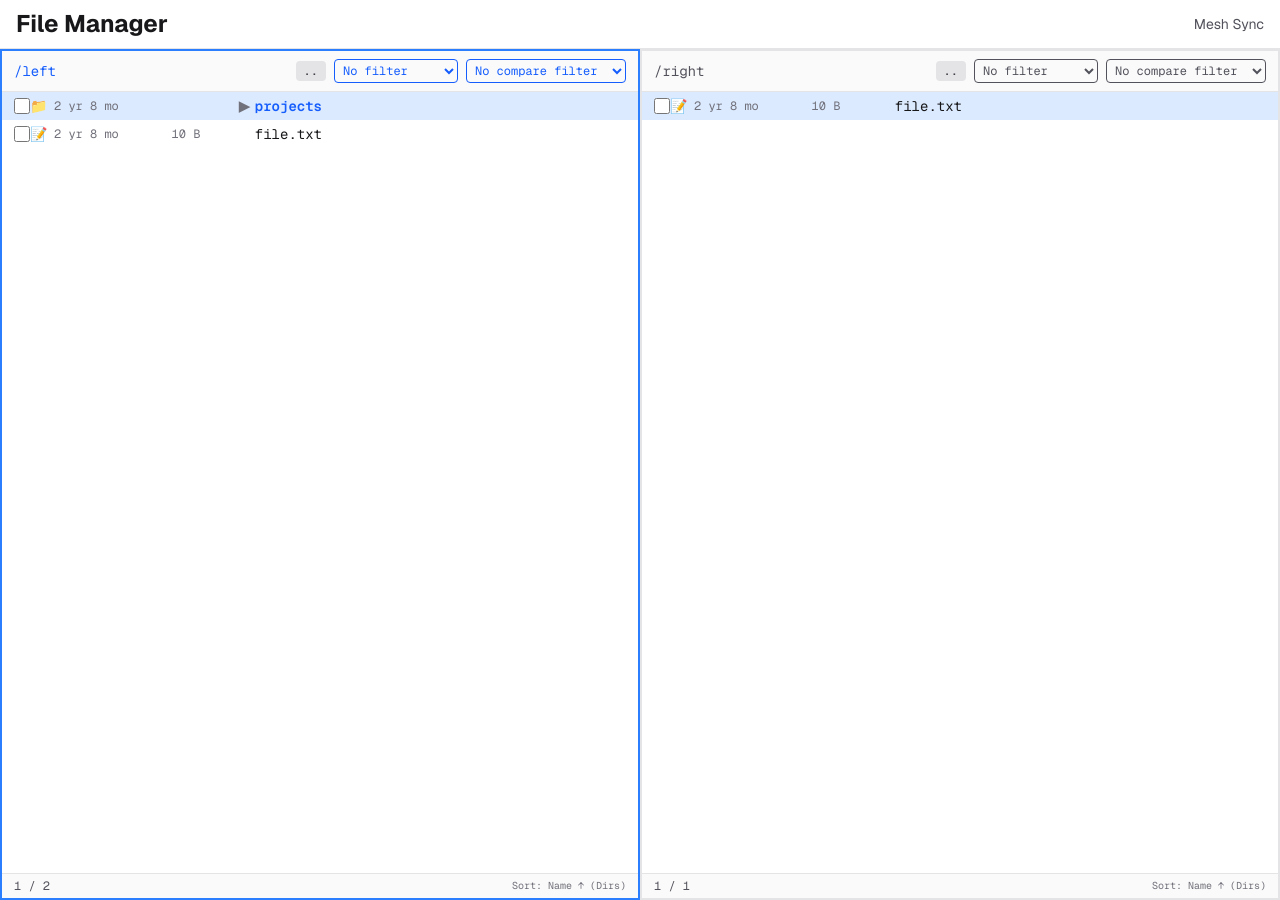
Test case: WorkspaceView set base directory [SET_BASE_DIRECTORY] › applies In all panes and navigates both panes to directory
Expected: the element with test id "pane-0" is shown, [0, 49, 640, 899]
Right-click the text "projects".
right_click(320, 106)  # box [2, 92, 638, 120]
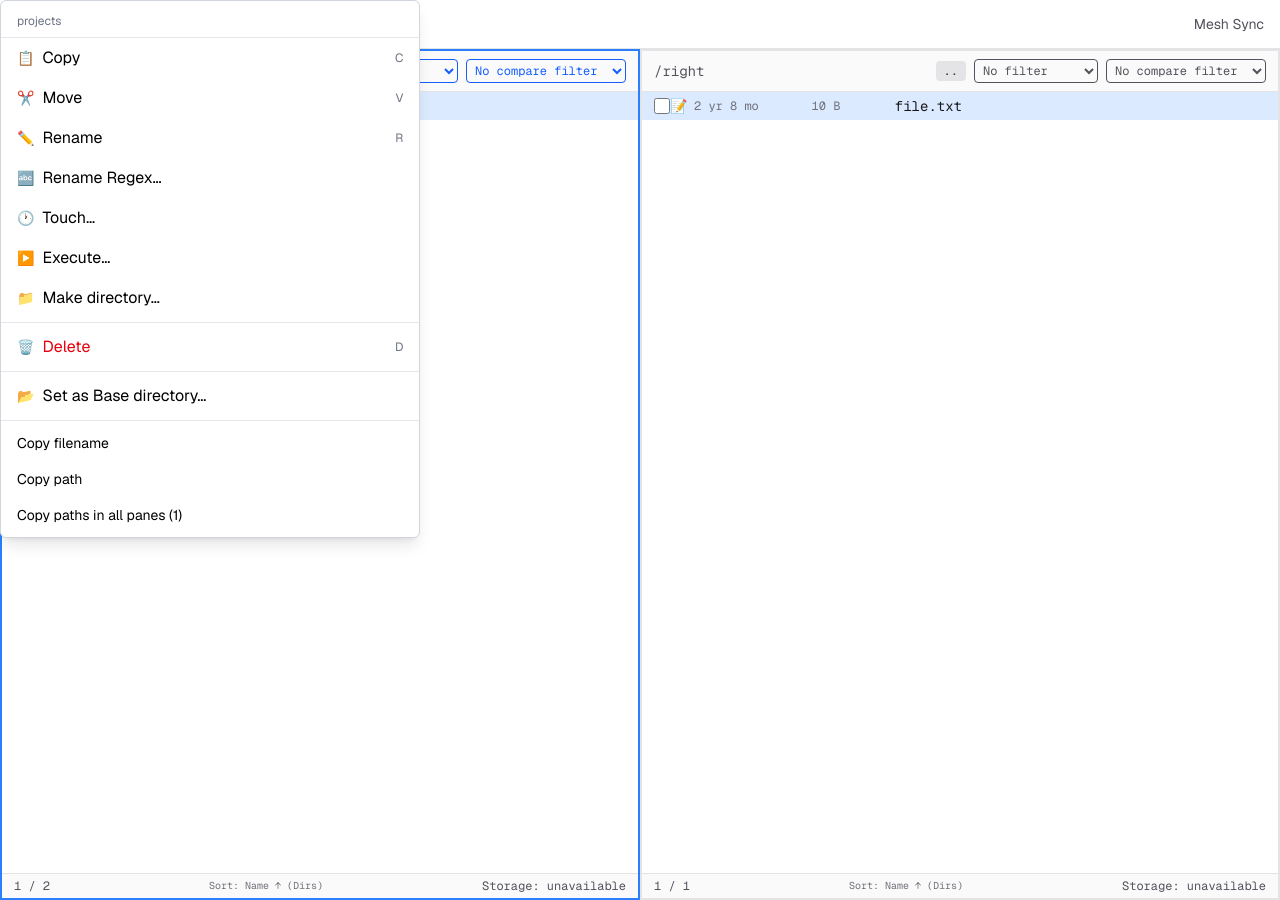
Click the menu item with test id "set-base-directory-menu-item".
click(124, 396)  # box [1, 376, 419, 416]
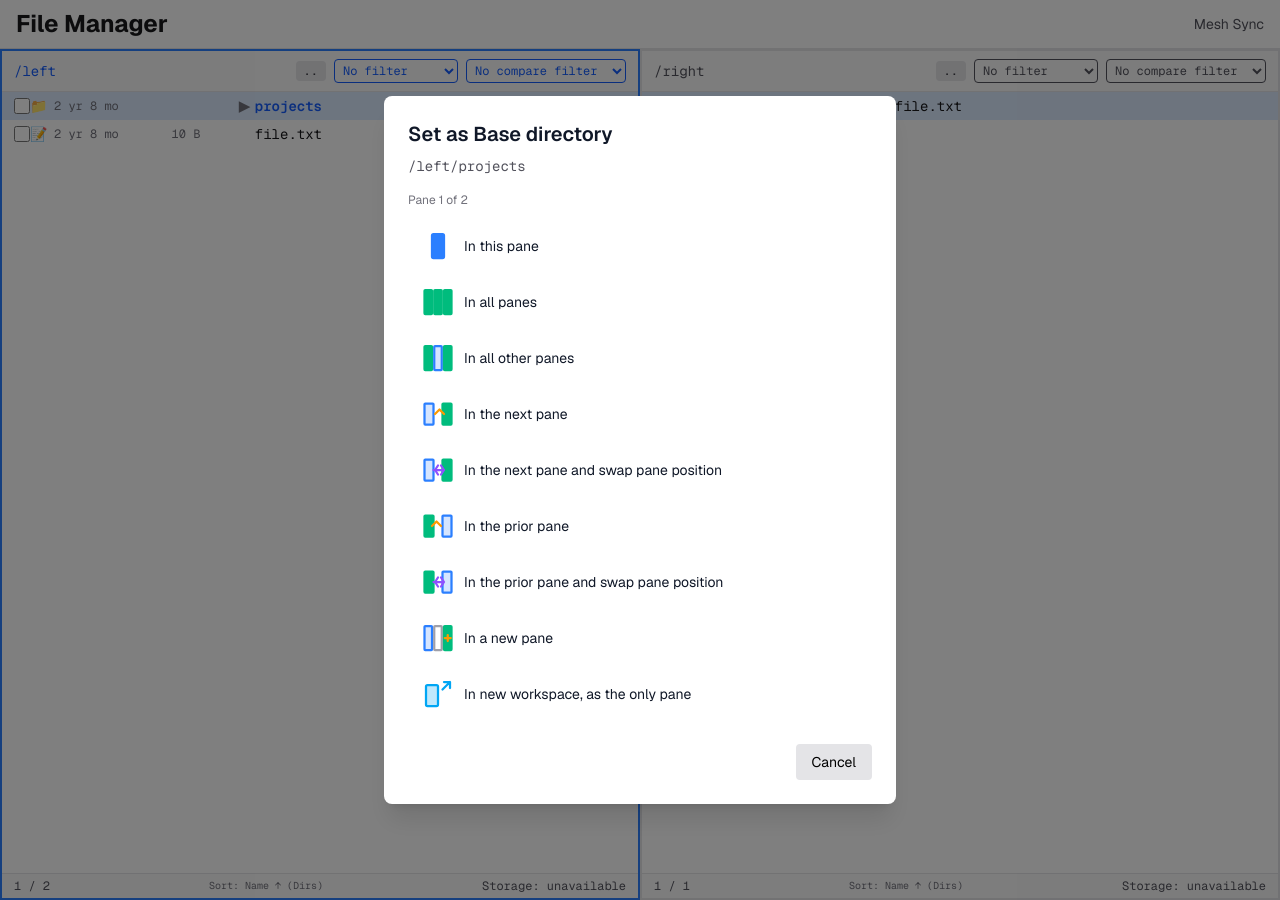
Now the dialog with test id "set-base-directory-dialog" is shown, box [384, 96, 896, 804]
Click the button with test id "set-base-in-all-panes".
click(438, 302)  # box [408, 276, 872, 328]
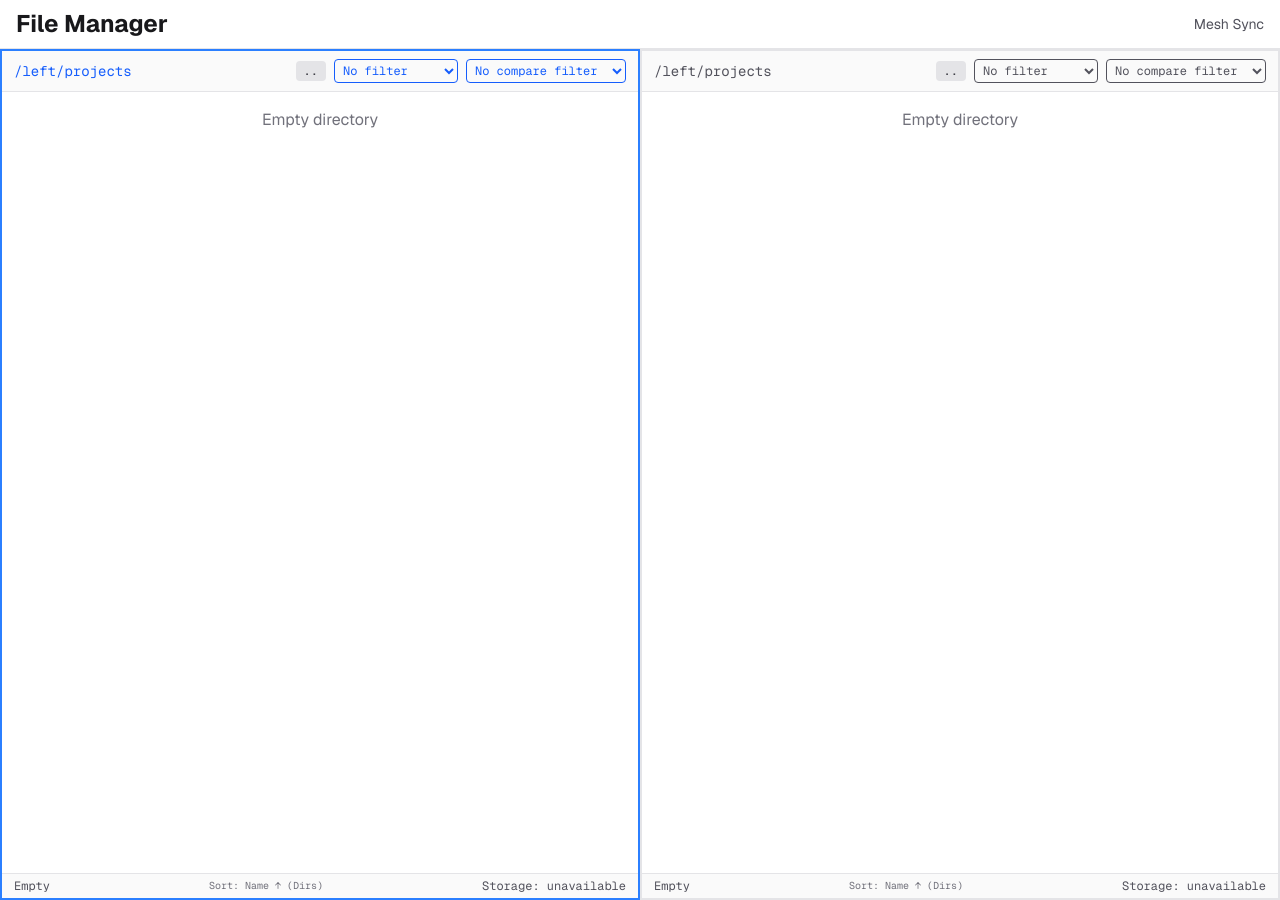
Now the dialog with test id "set-base-directory-dialog" is gone
Now the element with test id "pane-0" shows "/left/projects", box [14, 62, 132, 80]
Now the element with test id "pane-1" shows "/left/projects", box [654, 62, 772, 80]
